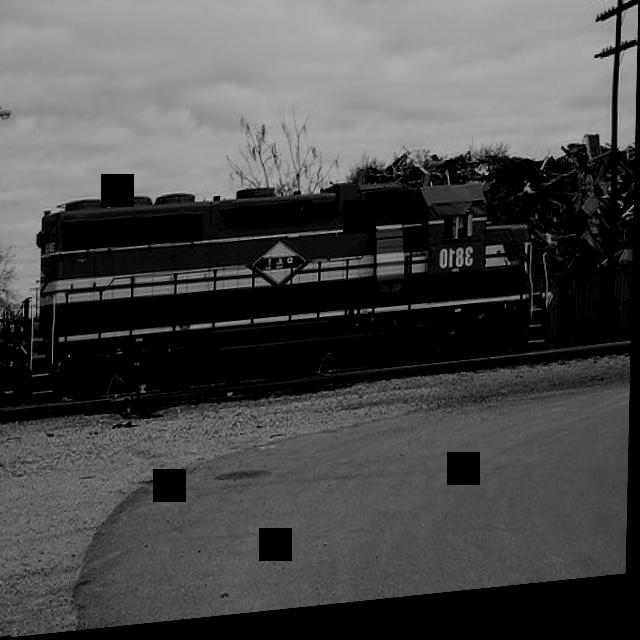locomotive: (28, 153, 562, 435)
